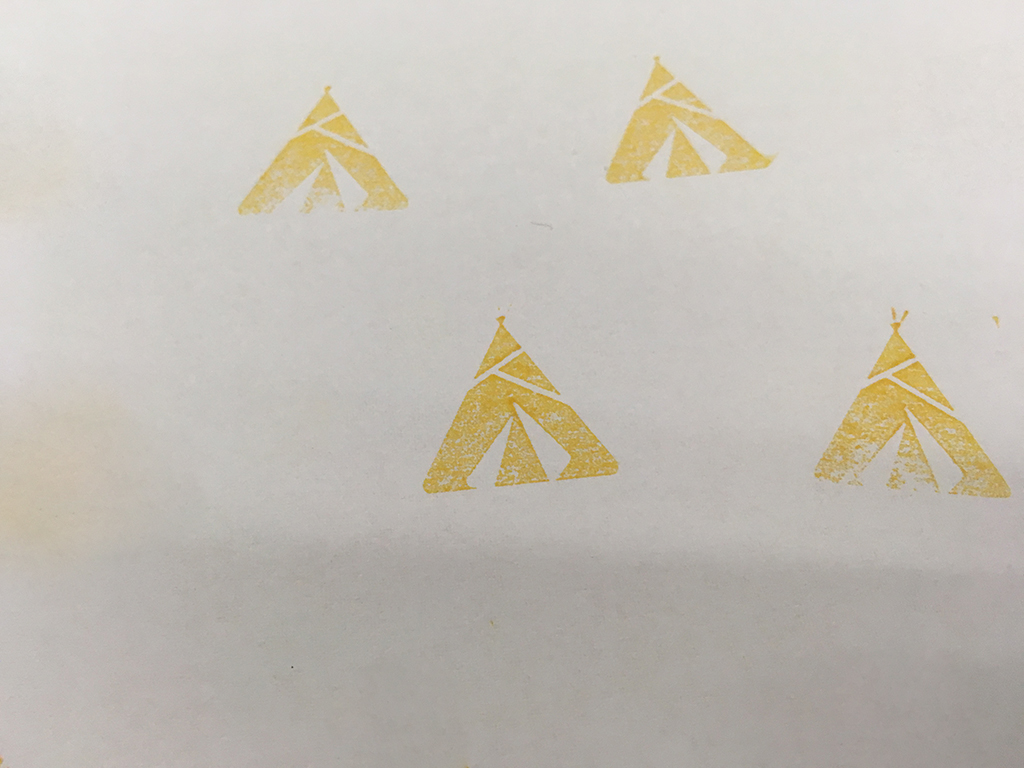tent: (413, 305, 629, 508), (807, 301, 1016, 509), (220, 77, 420, 226), (596, 52, 788, 192)
